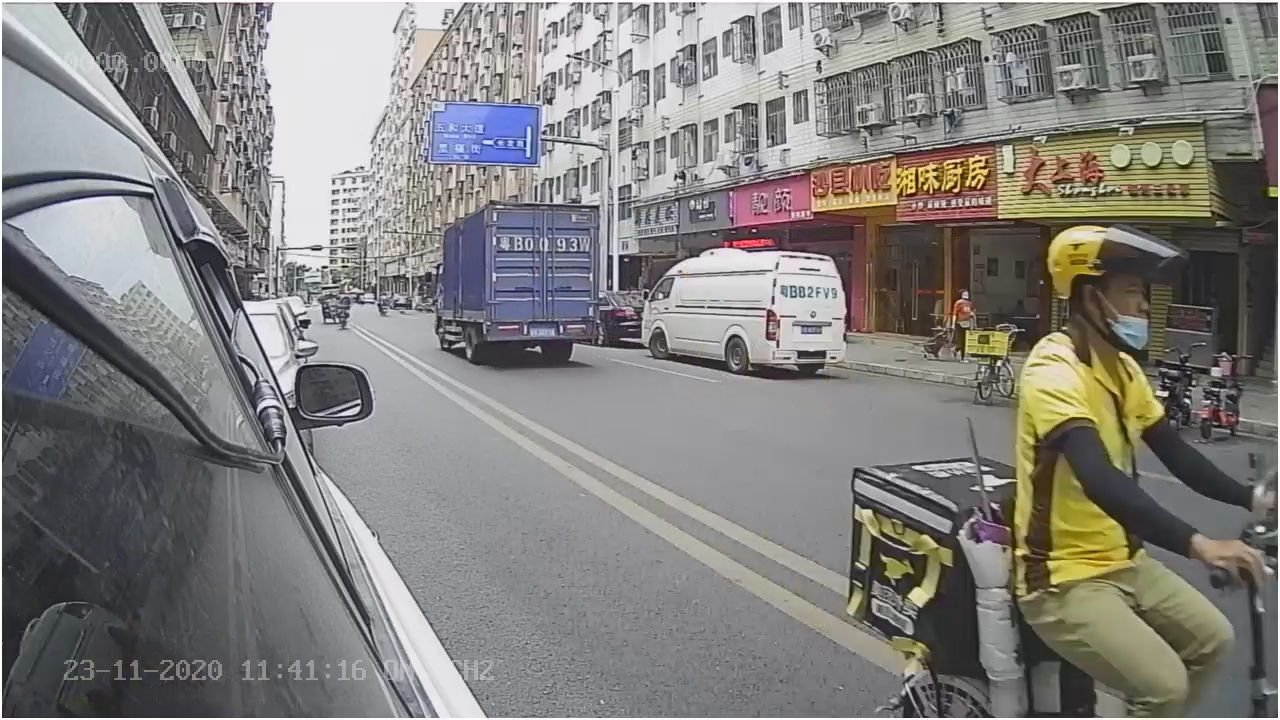person: (1005, 221, 1197, 547)
